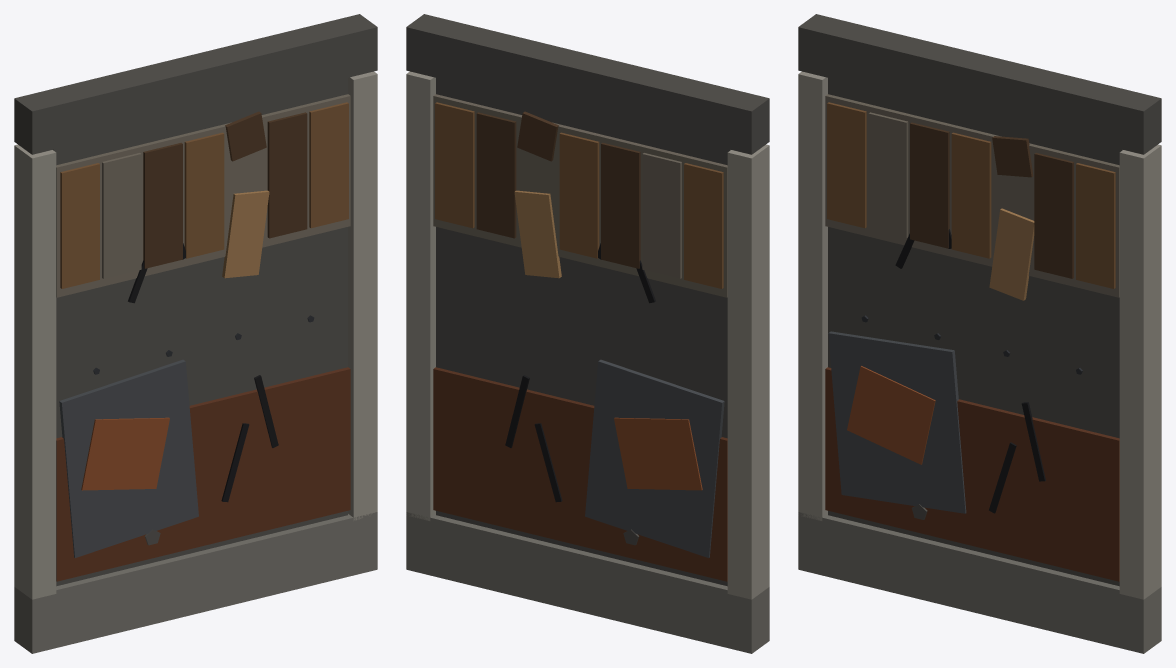
File: piece_wall_damaged.fbx
The picture shows the model from 3 angles, left to right: view 1: azimuth 30°, elevation 25°; view 2: azimuth 150°, elevation 25°; view 3: azimuth 330°, elevation 25°; orthographic projection.
Parts seen in each view (by area): view 1: piece_wall_damaged; view 2: piece_wall_damaged; view 3: piece_wall_damaged.
Part boxes in pixels (x1=…): piece_wall_damaged: x1=14, y1=14, x2=377, y2=653; piece_wall_damaged: x1=406, y1=14, x2=769, y2=653; piece_wall_damaged: x1=798, y1=14, x2=1161, y2=653.
Size of the model in its own units: 2 by 3 by 0.192.
